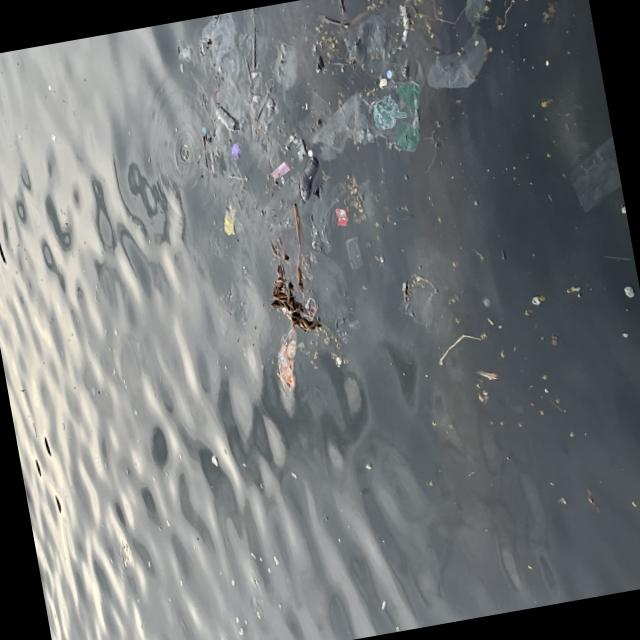plastic bag: (359, 86, 427, 154)
